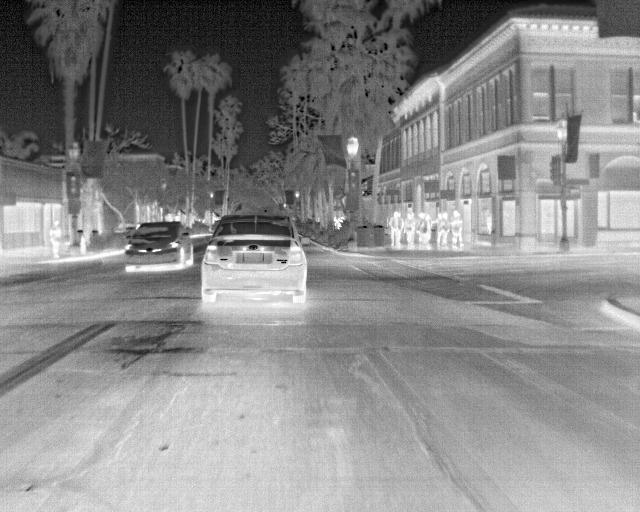bicycle: (200, 211, 310, 304), (121, 221, 196, 274)
empty: (449, 208, 467, 250), (49, 217, 64, 261), (418, 211, 434, 247), (388, 209, 403, 247), (403, 205, 416, 248)
